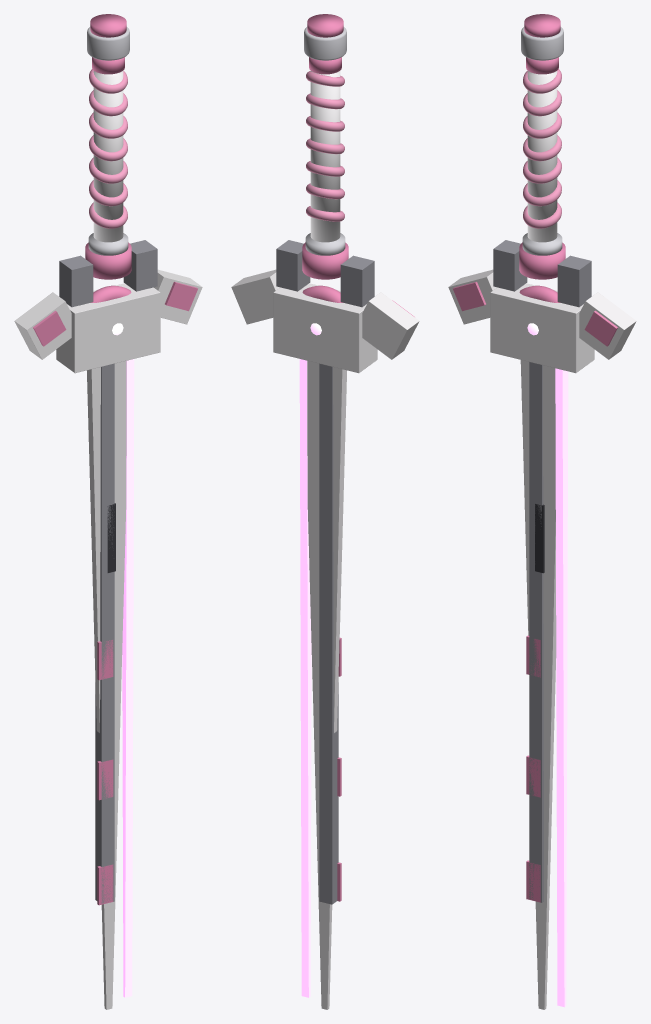
Rendered from pink-operator-sword.glb.
The picture shows the model from 3 angles, left to right: view 1: azimuth 30°, elevation 25°; view 2: azimuth 150°, elevation 25°; view 3: azimuth 330°, elevation 25°; orthographic projection.
Parts seen in each view (by area): view 1: Blade, BladeSpine, BladeEdge, GuardBase, Grip, GuardPlateL, GuardTopL, GuardTopR, GuardPlateR, GuardCollar, Pommel, PommelCap (+16 smaller); view 2: Blade, BladeSpine, BladeEdge, GuardBase, Grip, GuardPlateL, GuardPlateR, GuardTopL, GuardTopR, GuardCollar, Pommel, PommelCap (+3 smaller); view 3: Blade, BladeEdge, BladeSpine, GuardBase, Grip, GuardPlateR, GuardTopR, GuardTopL, GuardPlateL, GuardCollar, Pommel, PommelCap (+15 smaller).
Boxes of the visible parts, left/top/right/bottom form: Blade: left=87, top=360, right=126, bottom=1009; BladeSpine: left=95, top=363, right=114, bottom=903; BladeEdge: left=122, top=359, right=134, bottom=997; GuardBase: left=56, top=283, right=160, bottom=373; Grip: left=93, top=71, right=123, bottom=242; GuardPlateL: left=14, top=292, right=71, bottom=359; GuardTopL: left=59, top=255, right=93, bottom=307; GuardTopR: left=123, top=240, right=157, bottom=291; GuardPlateR: left=154, top=269, right=202, bottom=324; GuardCollar: left=85, top=242, right=131, bottom=279; Pommel: left=87, top=27, right=129, bottom=60; PommelCap: left=90, top=14, right=126, bottom=37; Blade: left=307, top=360, right=346, bottom=1009; BladeSpine: left=319, top=363, right=338, bottom=904; BladeEdge: left=299, top=359, right=311, bottom=997; GuardBase: left=273, top=283, right=377, bottom=373; Grip: left=310, top=71, right=340, bottom=242; GuardPlateL: left=362, top=292, right=419, bottom=359; GuardPlateR: left=231, top=269, right=279, bottom=324; GuardTopL: left=340, top=255, right=374, bottom=307; GuardTopR: left=276, top=240, right=310, bottom=291; GuardCollar: left=302, top=242, right=348, bottom=279; Pommel: left=304, top=27, right=346, bottom=60; PommelCap: left=307, top=14, right=343, bottom=37; Blade: left=520, top=360, right=556, bottom=1009; BladeEdge: left=555, top=368, right=568, bottom=1007; BladeSpine: left=529, top=362, right=543, bottom=902; GuardBase: left=490, top=283, right=594, bottom=373; Grip: left=527, top=71, right=557, bottom=242; GuardPlateR: left=579, top=292, right=636, bottom=359; GuardTopR: left=557, top=255, right=591, bottom=307; GuardTopL: left=493, top=240, right=527, bottom=291; GuardPlateL: left=448, top=269, right=496, bottom=324; GuardCollar: left=519, top=242, right=565, bottom=279; Pommel: left=521, top=27, right=563, bottom=60; PommelCap: left=524, top=14, right=560, bottom=37.
Size of the model in its own units: 0.2456 by 1.32 by 0.056.
